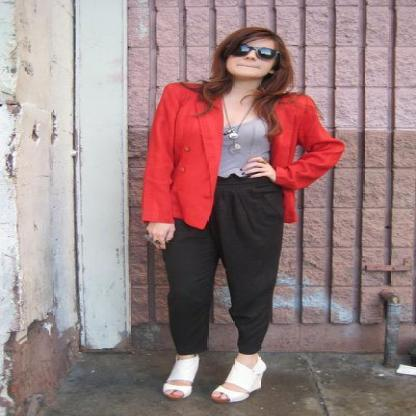jacket: (141, 81, 344, 224)
pants: (159, 175, 286, 355)
shirt: (218, 115, 268, 177)
shoe: (163, 358, 265, 401)
